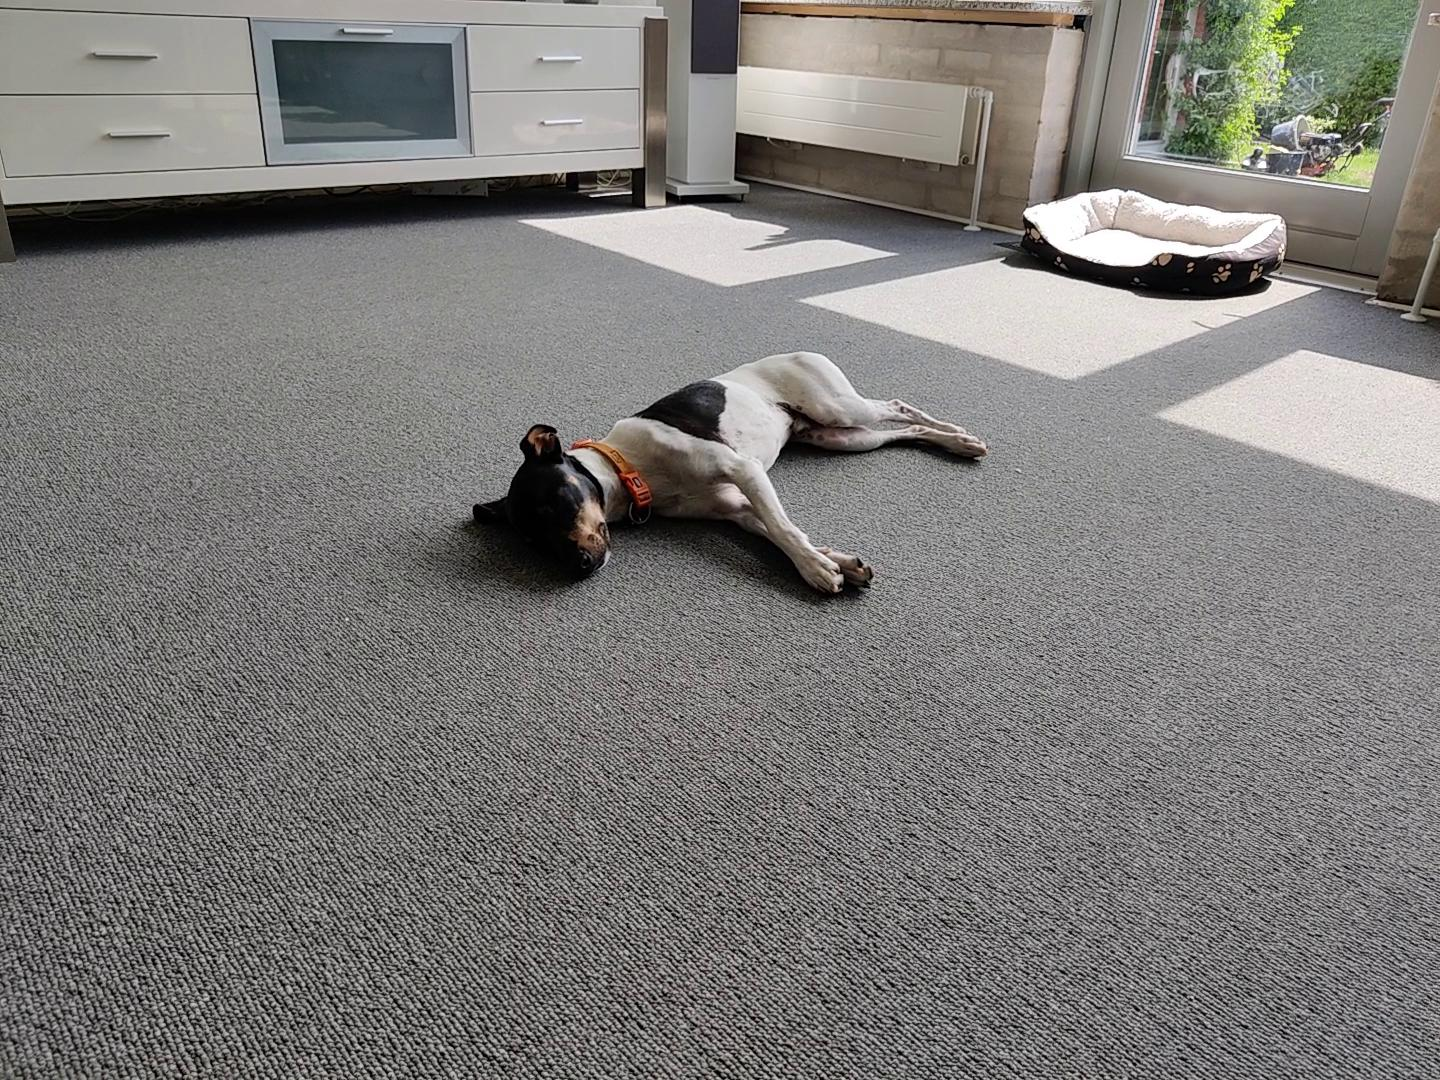Dog: (448, 336, 1001, 613)
